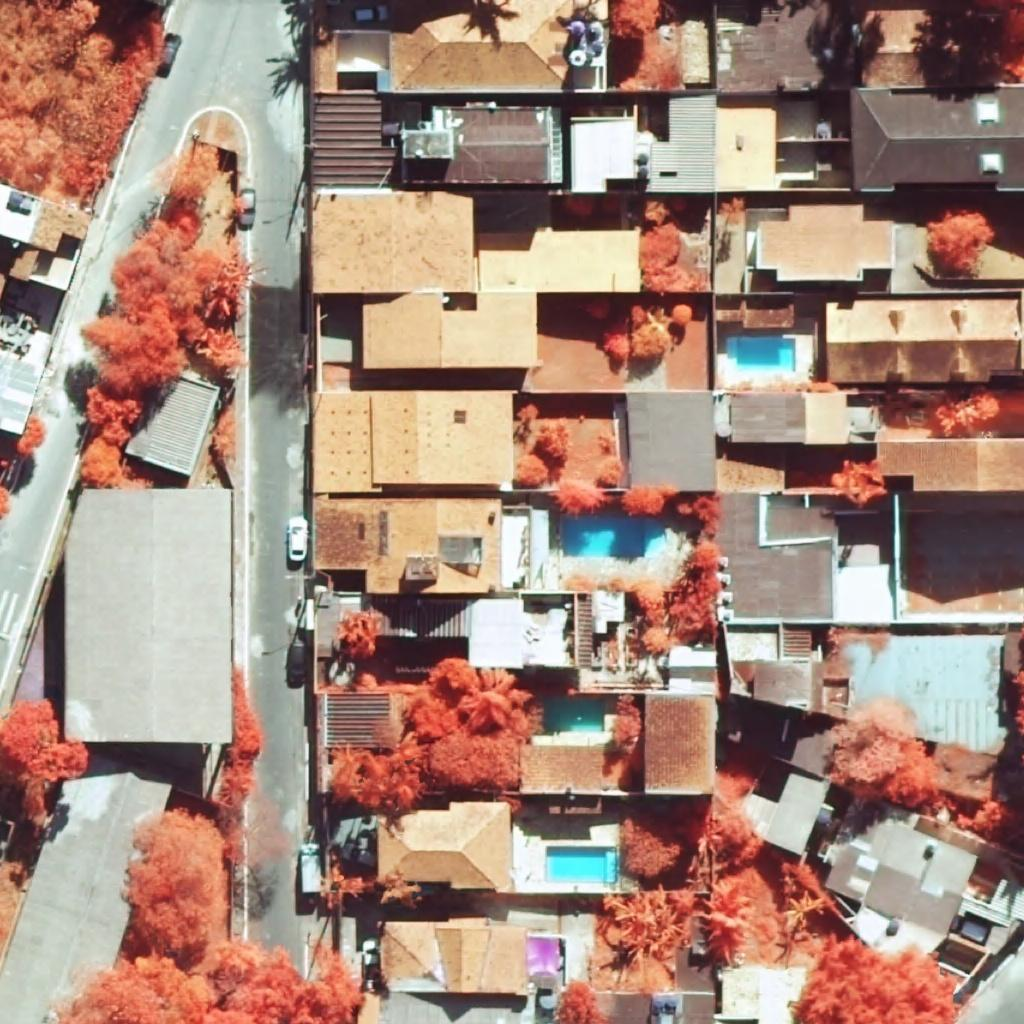pool: (563, 516, 667, 558), (546, 846, 617, 883), (727, 338, 796, 372), (545, 699, 604, 731)
